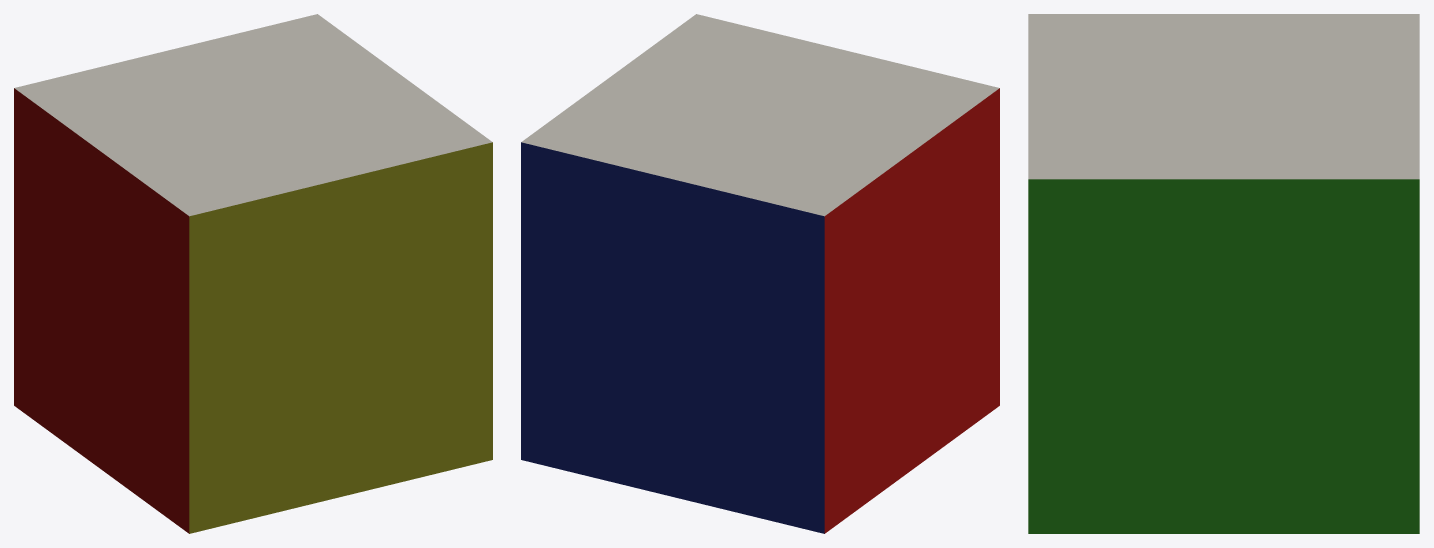
File: mirror2222.obj
The picture shows the model from 3 angles, left to right: view 1: azimuth 30°, elevation 25°; view 2: azimuth 150°, elevation 25°; view 3: azimuth 270°, elevation 25°; orthographic projection. The views are drawn at different scales.
Visible parts, largest first — view 1: frontWall, leftWall, ceiling; view 2: backWall, leftWall, ceiling; view 3: rightWall, ceiling.
Boxes of the visible parts, x1,y1,x2,y2 form: frontWall: (189,142,492,533); leftWall: (14,88,189,533); ceiling: (14,14,492,216); backWall: (521,142,824,533); leftWall: (824,88,999,533); ceiling: (521,14,999,216); rightWall: (1028,179,1419,533); ceiling: (1028,14,1419,179).
Bounding box in the file's own units: 2 × 2 × 2.
